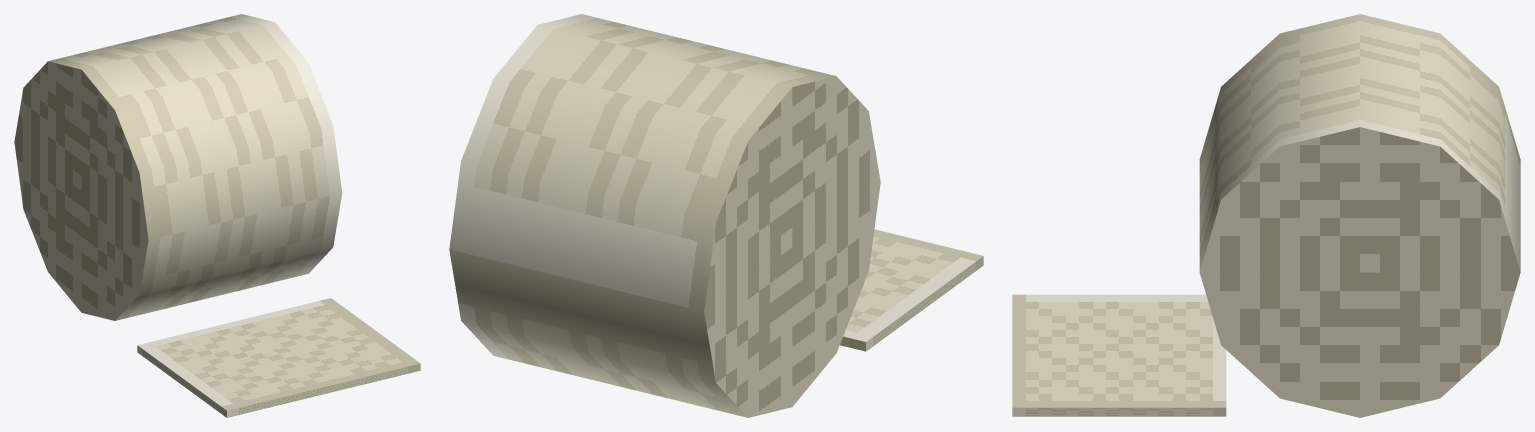
File: INV_BandageRoll.glb
3 renders of one model, left to right at view 1: azimuth 30°, elevation 25°; view 2: azimuth 150°, elevation 25°; view 3: azimuth 270°, elevation 25°, orthographic. The views are drawn at different scales.
Visible parts, largest first — view 1: INV_BandageRoll_Mesh; view 2: INV_BandageRoll_Mesh; view 3: INV_BandageRoll_Mesh.
Part boxes in pixels (x1,y1,x2,y2): INV_BandageRoll_Mesh: (14,14,420,417); INV_BandageRoll_Mesh: (449,14,983,417); INV_BandageRoll_Mesh: (1012,14,1520,417).
Size of what is drawn, in the model's own units: 0.05 by 0.06 by 0.095.
Materials: 1 (1 with a texture image).
